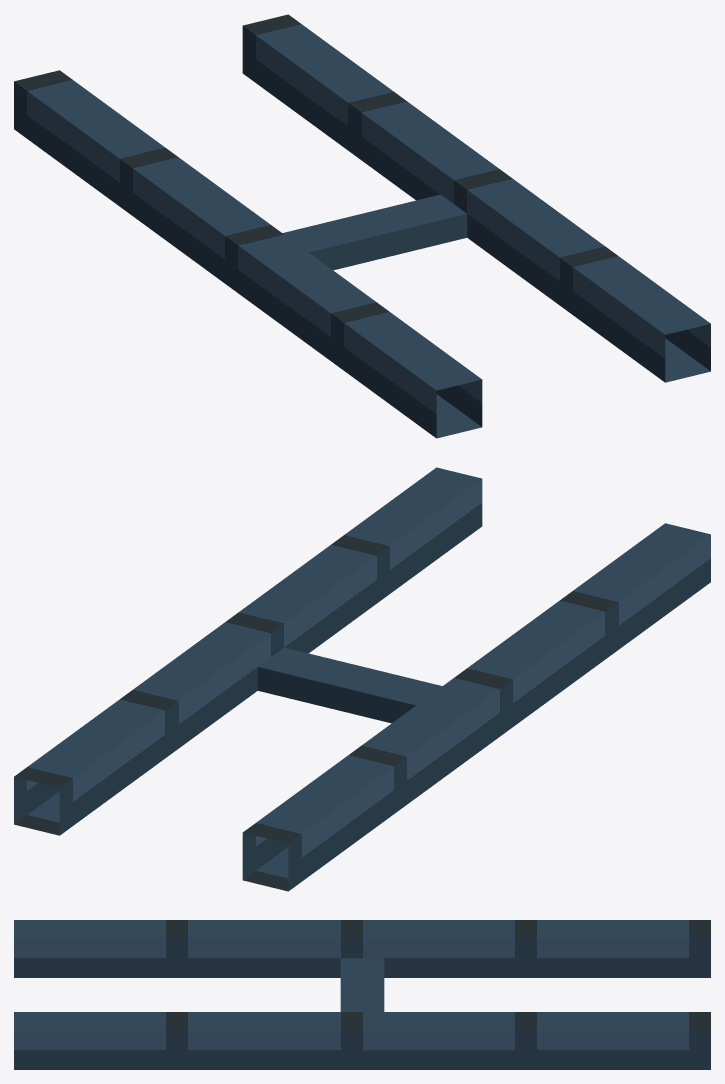
File: MagnetRail.fbx
3 renders of one model, top to bottom at view 1: azimuth 30°, elevation 25°; view 2: azimuth 150°, elevation 25°; view 3: azimuth 270°, elevation 25°, orthographic. The views are drawn at different scales.
Visible parts, largest first — view 1: cube_1, cube, cube_2; view 2: cube_1, cube, cube_2; view 3: cube, cube_1, cube_2.
Part boxes in pixels (x1,y1,x2,y2): cube_1: (14,70,482,438); cube: (242,14,710,382); cube_2: (282,194,467,270); cube_1: (242,523,710,891); cube: (14,467,482,835); cube_2: (257,647,442,723); cube: (14,1012,710,1069); cube_1: (14,920,710,977); cube_2: (340,958,384,1011).
Size of the model in its own units: 150 by 25 by 400.
1 material, 1 textured.
